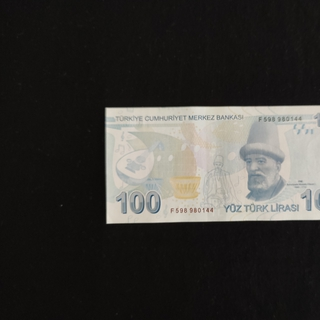100TLBack: (104, 104, 320, 224)
